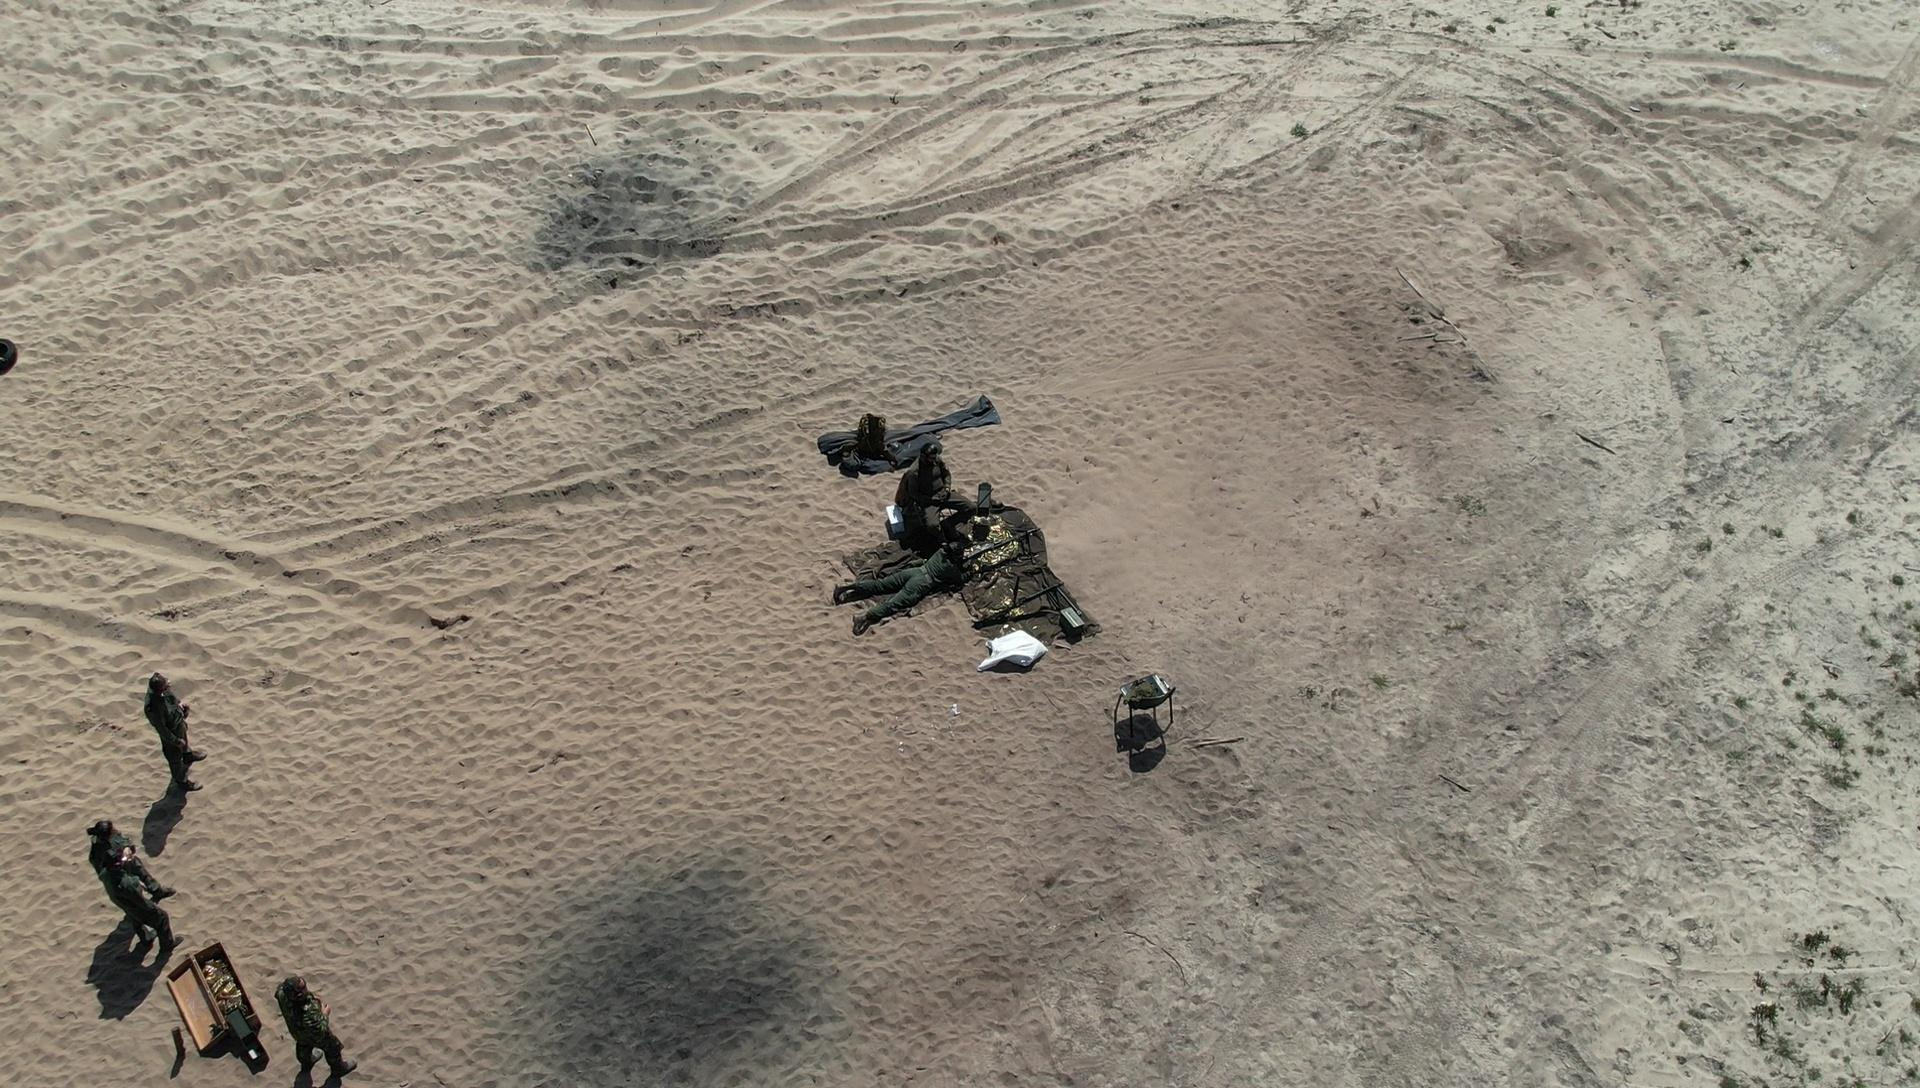Soldier: (848, 514, 997, 626), (131, 670, 219, 828), (98, 855, 179, 972), (891, 460, 978, 568), (269, 973, 352, 1068), (88, 820, 132, 880)
